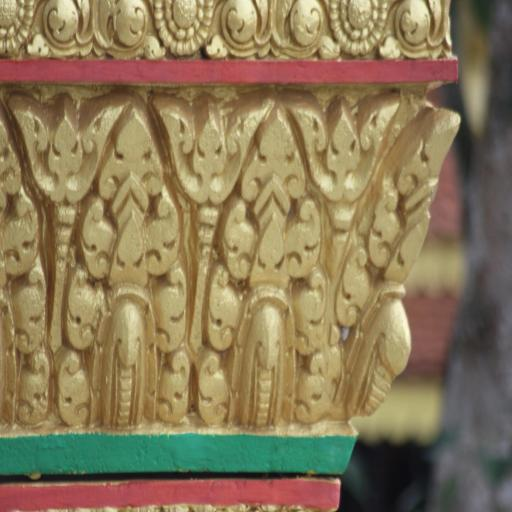hoa: (153, 0, 215, 52), (331, 0, 387, 55), (0, 0, 45, 54)
la: (326, 104, 473, 428), (198, 98, 328, 434), (66, 109, 186, 431), (11, 84, 90, 434), (162, 80, 234, 438), (0, 91, 45, 440), (214, 0, 328, 56), (45, 0, 155, 56), (386, 0, 459, 57)
